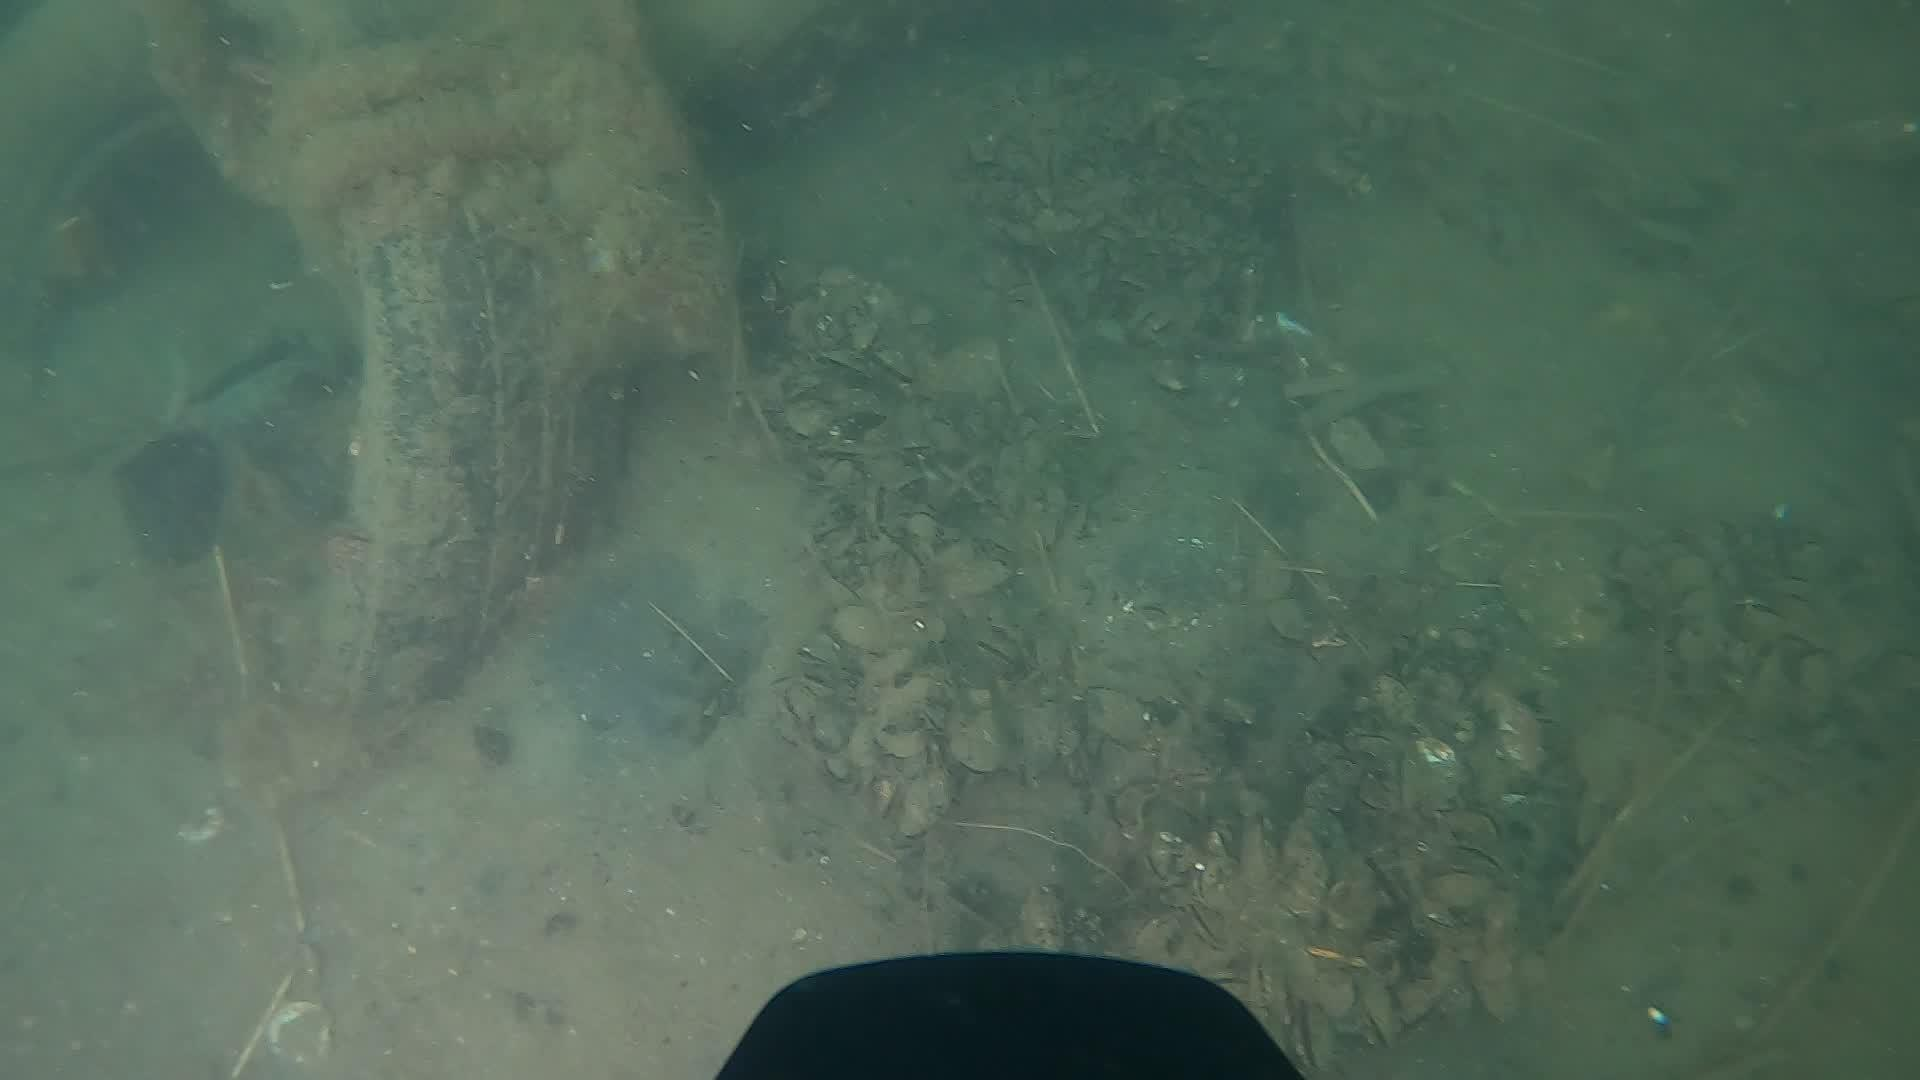tire: (0, 0, 632, 724)
